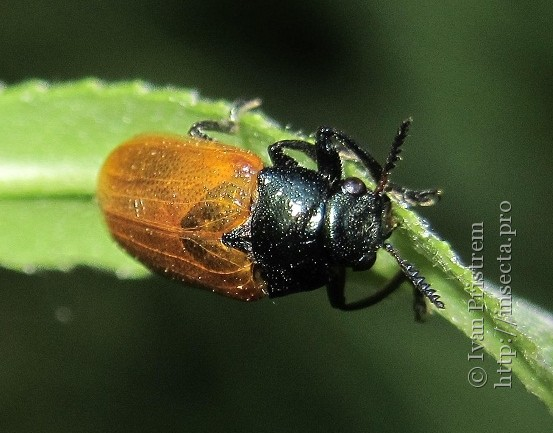Labidostomis_longimana: (79, 95, 449, 342)
